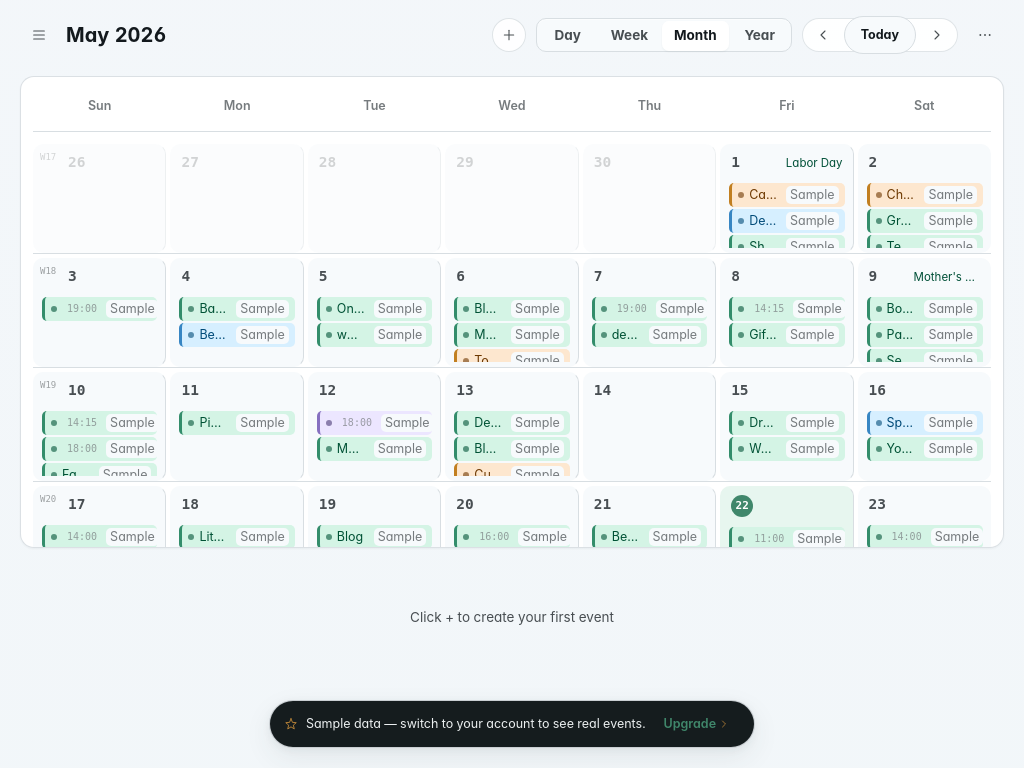
CalendarModule event CRUD integration (P4) › AC-QUICK-CREATE-1B: clicking a fixture chip still opens the day overview
The image size is (1024, 768).
Click the text "Call Sandy".
click(763, 195)  # box [749,186,777,204]
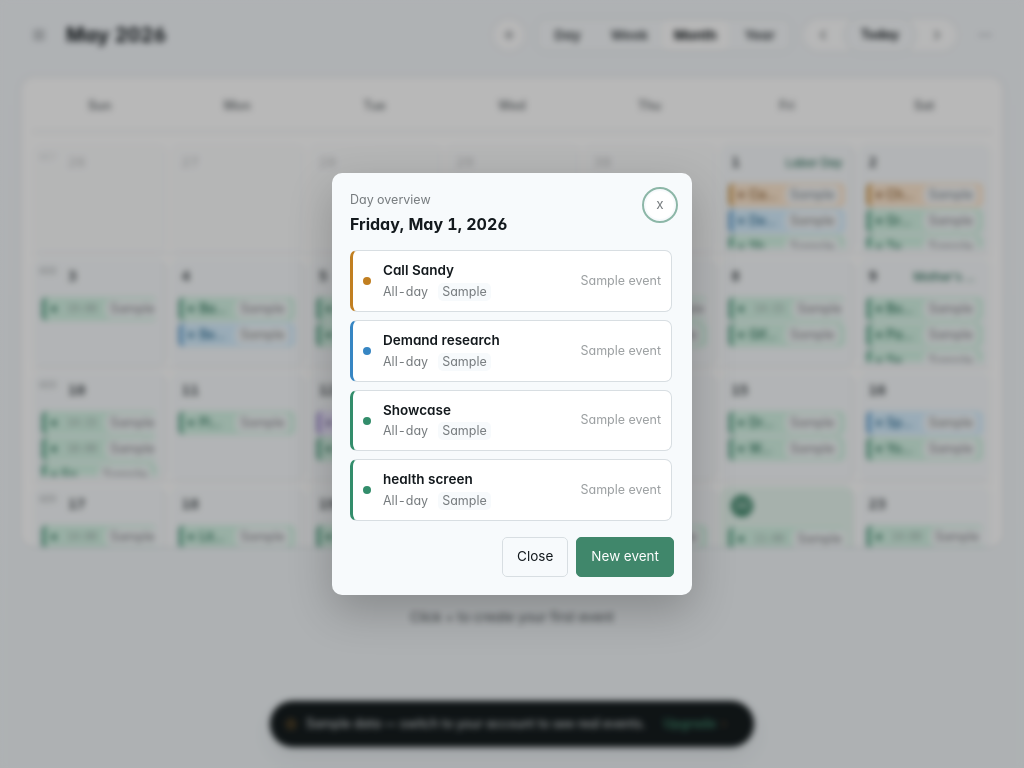
Result: the dialog with test id "day-overview" is shown at [332,173,692,595]
Result: the heading with class "day-overview__title" reads "Friday, May 1, 2026" at [350,214,508,234]
